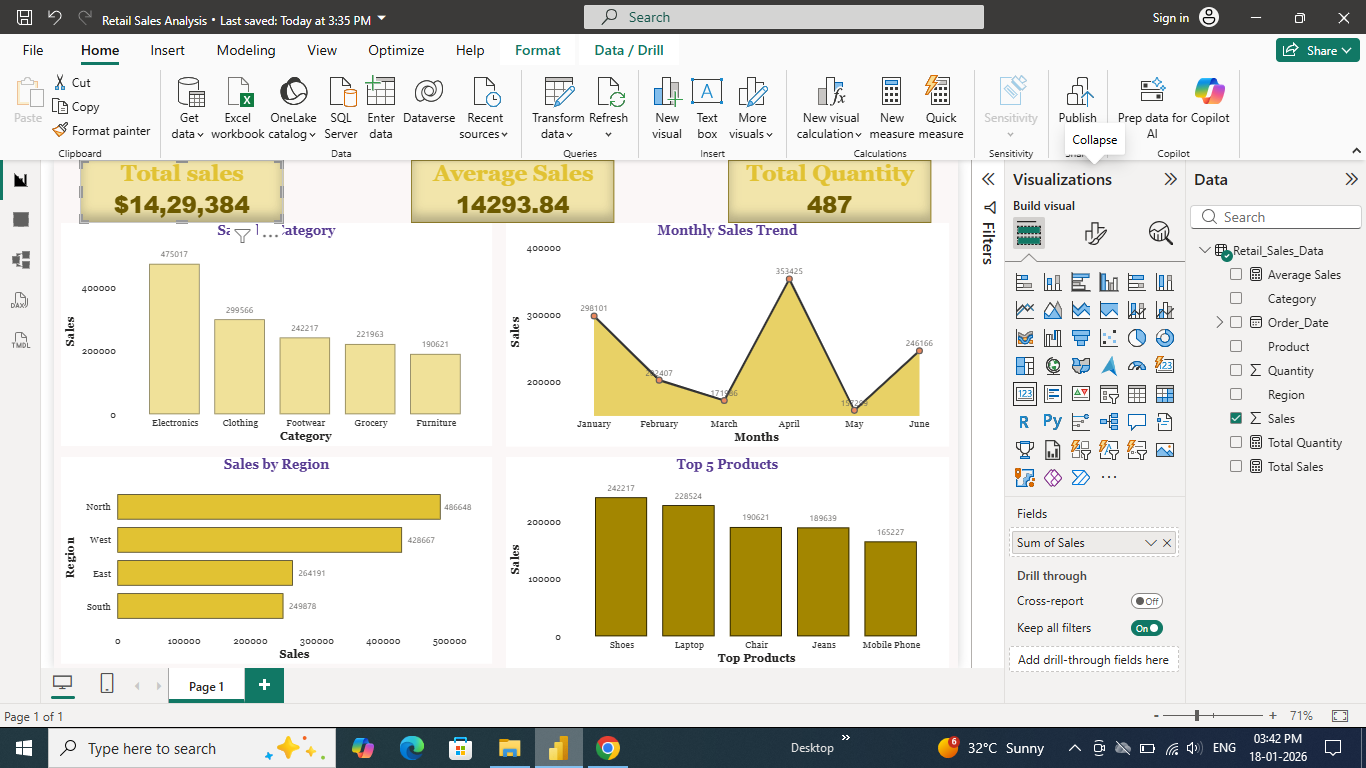

What the dashboard file says about the page in this screenshot:
{"tool":"powerbi","page":{"name":"Page 1","canvas":[1280,720],"ordinal":0},"visuals":[{"type":"clusteredColumnChart","title":"Sales by Category","fields":{"Category":["Retail_Sales_Data.Category"],"Y":["Retail_Sales_Data.Sales"]},"box":[9.9,89.3,610.9,316.1],"z":0},{"type":"lineChart","title":"Monthly Sales Trend","fields":{"Category":["Retail_Sales_Data.Order_Date.Variation.Date Hierarchy.Month"],"Y":["Retail_Sales_Data.Sales"]},"box":[640.6,89.3,627.9,317.5],"z":1000},{"type":"clusteredBarChart","title":"Sales by Region","fields":{"Category":["Retail_Sales_Data.Region"],"Y":["Retail_Sales_Data.Sales"]},"box":[9.9,420.9,610.9,293.4],"z":2000},{"type":"clusteredColumnChart","title":"Top 5 Products","fields":{"Category":["Retail_Sales_Data.Product"],"Y":["Retail_Sales_Data.Sales"]},"box":[640.6,420.9,627.9,299.1],"z":3000},{"type":"card","title":"Total sales","fields":{"Values":["Retail_Sales_Data.Sales"]},"box":[36.9,0,287.7,89.3],"z":3001},{"type":"card","title":"Total Quantity","fields":{"Values":["Retail_Sales_Data.Total Quantity"]},"box":[955.3,0,287.7,89.3],"z":3002},{"type":"card","title":"Average Sales","fields":{"Values":["Retail_Sales_Data.Average Sales"]},"box":[506,0,287.7,89.3],"z":3003}]}

Visuals, with their boxes on the page's 1280x720 design canvas (x1, y1, x2, y2). These are canvas units, not pixel positions in the 1366x768 screenshot, which may show the page scaled, cropped or inside an application window:
"Sales by Category" clusteredColumnChart: bbox(10, 89, 621, 405)
"Monthly Sales Trend" lineChart: bbox(641, 89, 1268, 407)
"Sales by Region" clusteredBarChart: bbox(10, 421, 621, 714)
"Top 5 Products" clusteredColumnChart: bbox(641, 421, 1268, 720)
"Total sales" card: bbox(37, 0, 325, 89)
"Total Quantity" card: bbox(955, 0, 1243, 89)
"Average Sales" card: bbox(506, 0, 794, 89)
